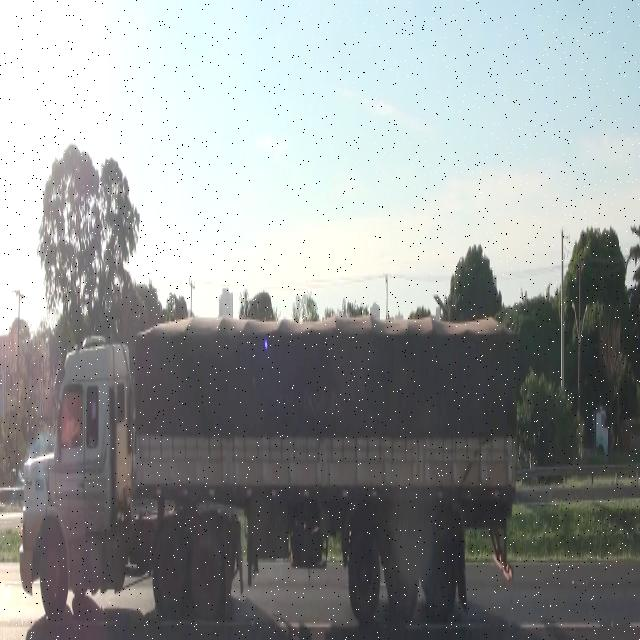-axle: (385, 517, 421, 620), (348, 522, 382, 624), (152, 524, 188, 617), (425, 518, 459, 616), (194, 522, 224, 616), (40, 526, 64, 620)
